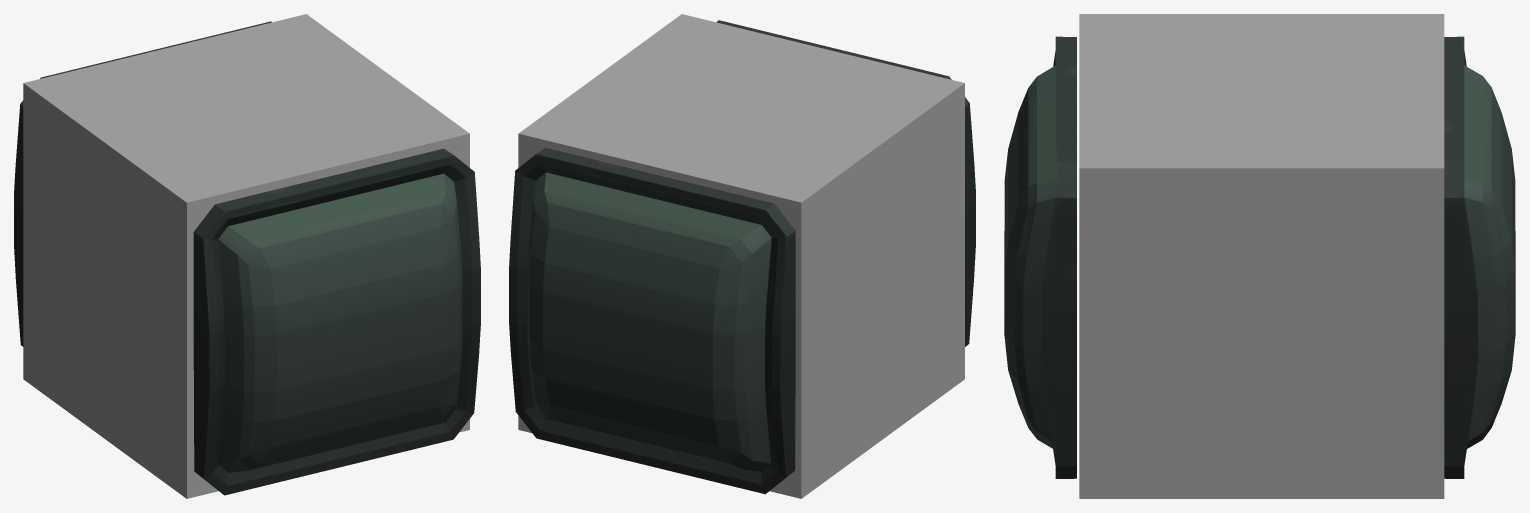
Rendered from MODEL_Bomb4(1).fbx.
3 views of the same model, side by side, from view 1: azimuth 30°, elevation 25°; view 2: azimuth 150°, elevation 25°; view 3: azimuth 270°, elevation 25° (orthographic). The views are drawn at different scales.
Parts seen in each view (by area): view 1: Case, Screen2, Screen; view 2: Case, Screen, Screen2; view 3: Case, Screen2, Screen.
Boxes of the visible parts, <box> form: Case: <box>23,14,469,498</box>; Screen2: <box>193,148,480,495</box>; Screen: <box>14,21,271,346</box>; Case: <box>518,14,964,498</box>; Screen: <box>509,147,795,494</box>; Screen2: <box>716,20,975,346</box>; Case: <box>1079,14,1444,498</box>; Screen2: <box>1004,36,1076,478</box>; Screen: <box>1444,36,1515,478</box>.
Bounding box in the file's own units: 2.01 × 2.01 × 2.81.
Materials: 2 (1 with a texture image).
